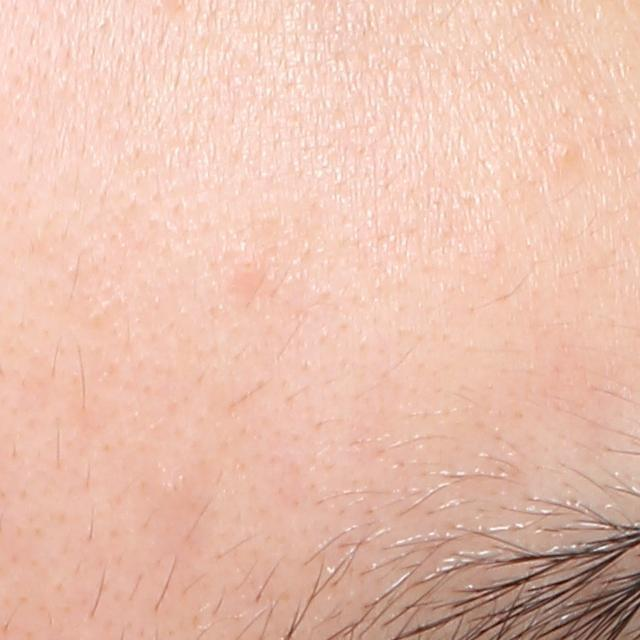comedo: (549, 132, 579, 168)
